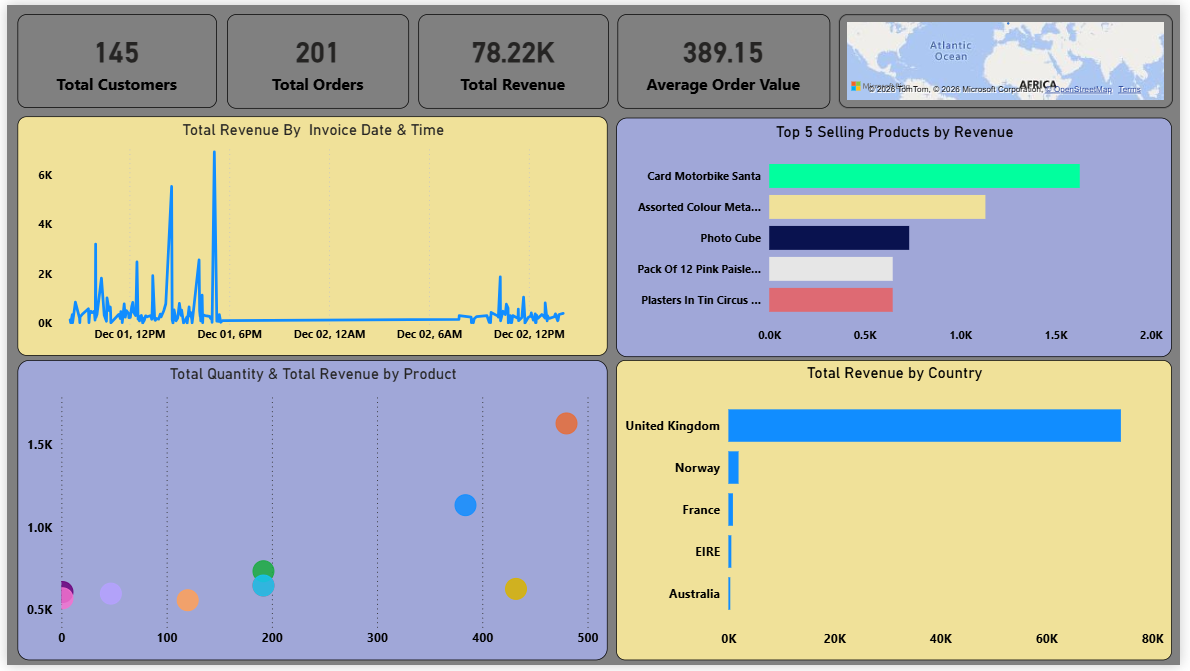

This screenshot's page, from the dashboard's own definition file:
{"tool":"powerbi","page":{"name":"Business Sales Performance Analytics Dashboard","canvas":[1280,720],"ordinal":0},"visuals":[{"type":"lineChart","title":"Total Revenue By  Invoice Date & Time","fields":{"Y":["clean_online_retail_data.Total Revenue"],"Category":["clean_online_retail_data.InvoiceDate"]},"box":[11.2,121.2,643.8,261.2],"z":0},{"type":"clusteredBarChart","title":"Top 5 Selling Products by Revenue","fields":{"Category":["clean_online_retail_data.Description Proper"],"Y":["clean_online_retail_data.Total Revenue"]},"box":[665,122.5,606.2,261.2],"z":1000},{"type":"card","fields":{"Values":["clean_online_retail_data.Total Customers"]},"box":[11.2,10,217.5,102.5],"z":2000},{"type":"card","fields":{"Values":["clean_online_retail_data.Total Orders"]},"box":[239.5,9.9,198.6,103],"z":3000},{"type":"card","fields":{"Values":["clean_online_retail_data.Total Revenue"]},"box":[448,9.9,207.3,103],"z":4000},{"type":"card","fields":{"Values":["clean_online_retail_data.Average Order Value"]},"box":[665.2,9.9,232.1,103],"z":5000},{"type":"scatterChart","title":"Total Quantity & Total Revenue by Product","fields":{"X":["clean_online_retail_data.Total Quantity"],"Y":["clean_online_retail_data.Total Revenue"],"Series":["clean_online_retail_data.Description Proper"]},"box":[11.2,387.5,643.8,327.5],"z":6000},{"type":"map","fields":{"Category":["clean_online_retail_data.Country"],"Size":["clean_online_retail_data.Total Revenue"]},"box":[907.5,10,363.8,102.5],"z":7000},{"type":"clusteredBarChart","fields":{"Category":["clean_online_retail_data.Country"],"Y":["clean_online_retail_data.Total Revenue"]},"box":[665,387.5,606.2,327.5],"z":8000}]}

Visuals, with their boxes in screenshot pixels (x1, y1, x2, y2), scaled from the page's 1280x720 canvas onto the 1190x671 screenshot:
"Total Revenue By  Invoice Date & Time" lineChart: {"x1": 10, "y1": 113, "x2": 609, "y2": 356}
"Top 5 Selling Products by Revenue" clusteredBarChart: {"x1": 618, "y1": 114, "x2": 1182, "y2": 358}
card - clean_online_retail_data.Total Customers: {"x1": 10, "y1": 9, "x2": 213, "y2": 105}
card - clean_online_retail_data.Total Orders: {"x1": 223, "y1": 9, "x2": 407, "y2": 105}
card - clean_online_retail_data.Total Revenue: {"x1": 416, "y1": 9, "x2": 609, "y2": 105}
card - clean_online_retail_data.Average Order Value: {"x1": 618, "y1": 9, "x2": 834, "y2": 105}
"Total Quantity & Total Revenue by Product" scatterChart: {"x1": 10, "y1": 361, "x2": 609, "y2": 666}
map - clean_online_retail_data.Country x clean_online_retail_data.Total Revenue: {"x1": 844, "y1": 9, "x2": 1182, "y2": 105}
clusteredBarChart - clean_online_retail_data.Country x clean_online_retail_data.Total Revenue: {"x1": 618, "y1": 361, "x2": 1182, "y2": 666}
